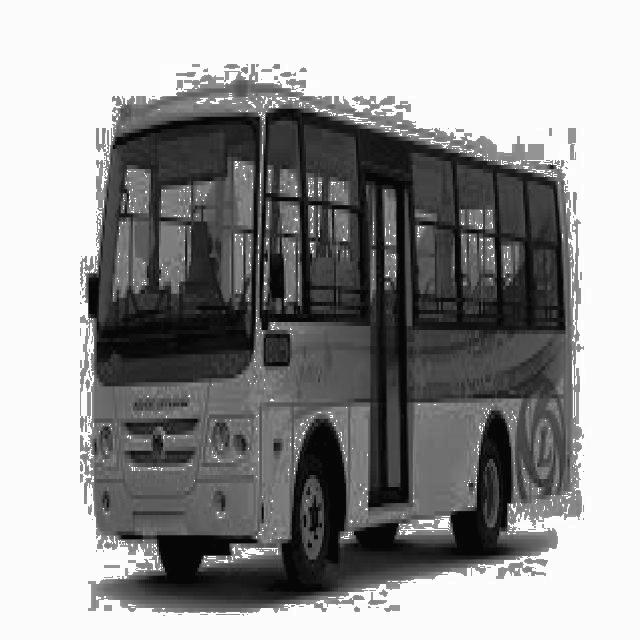Bus: (72, 47, 595, 593)
